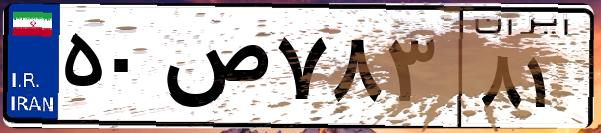0: (110, 28, 158, 98)
1: (525, 38, 570, 115)
3: (385, 28, 445, 110)
5: (57, 26, 110, 100)
7: (270, 28, 330, 110)
8: (330, 28, 385, 110), (475, 38, 525, 113)
ص: (158, 20, 270, 120)
